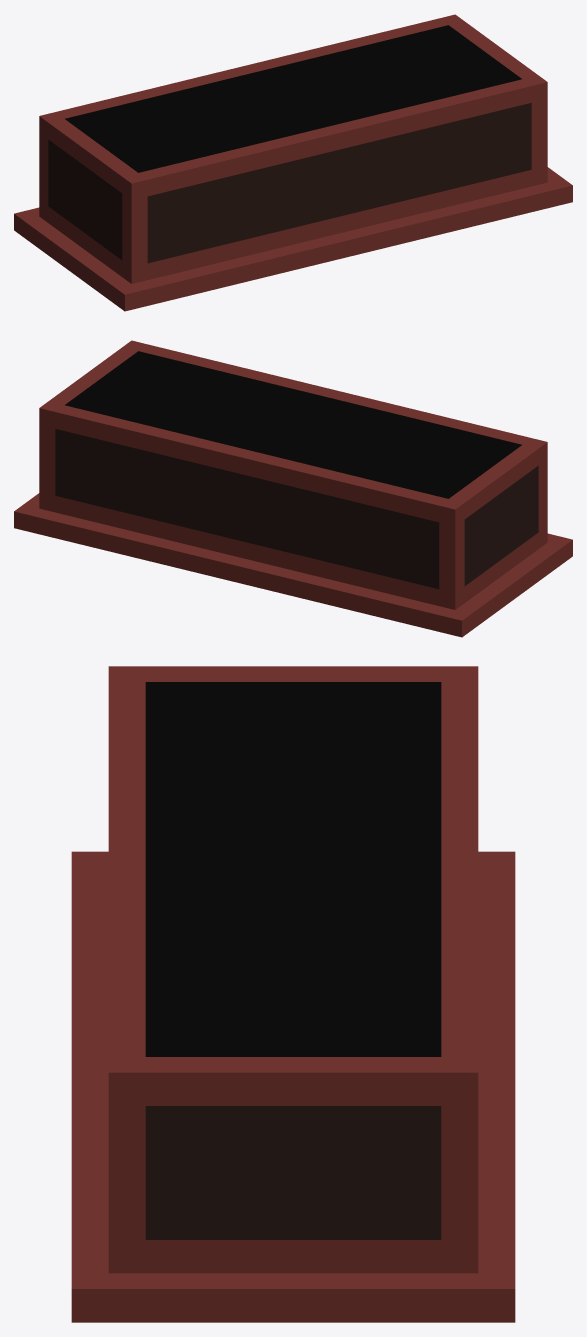
Rendered from tomb_b_b.obj.
3 views of the same model, one above another, from view 1: azimuth 30°, elevation 25°; view 2: azimuth 150°, elevation 25°; view 3: azimuth 270°, elevation 25° (orthographic). The views are drawn at different scales.
Bounding box in the file's own units: 2.8 × 0.7 × 1.2.
1 material, 1 textured.
